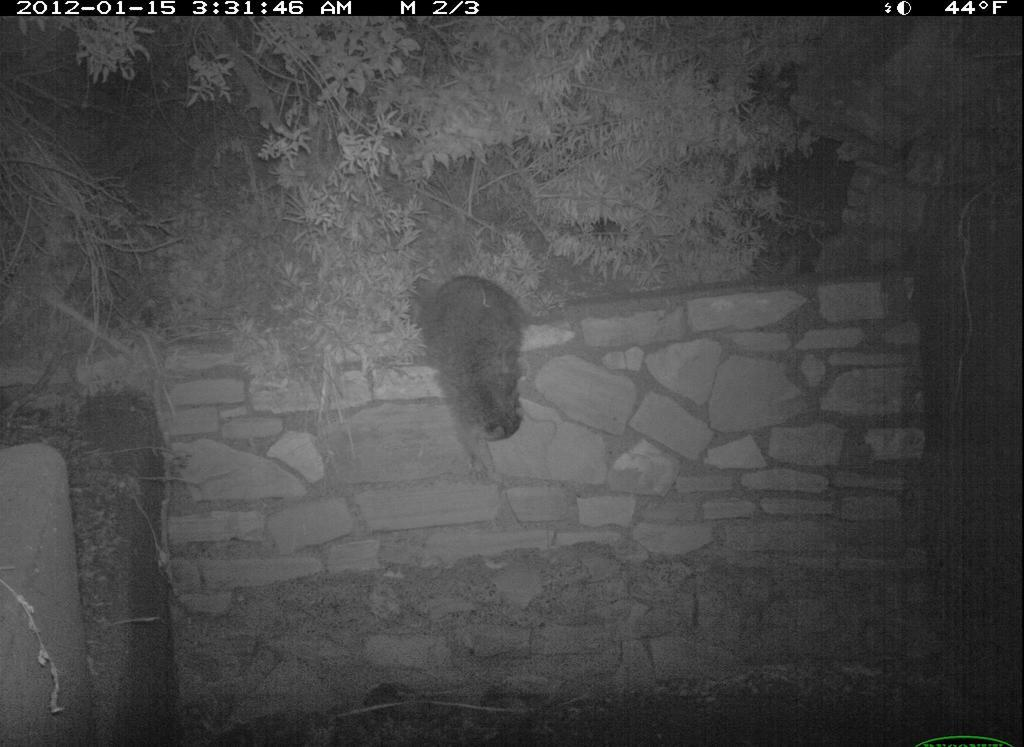raccoon: (400, 260, 555, 477)
